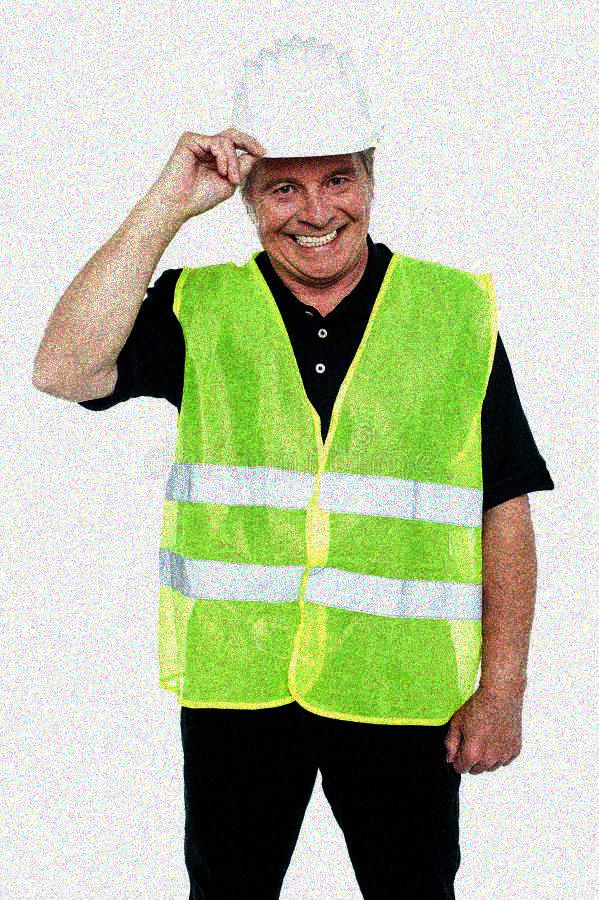helmet: (213, 25, 382, 289)
